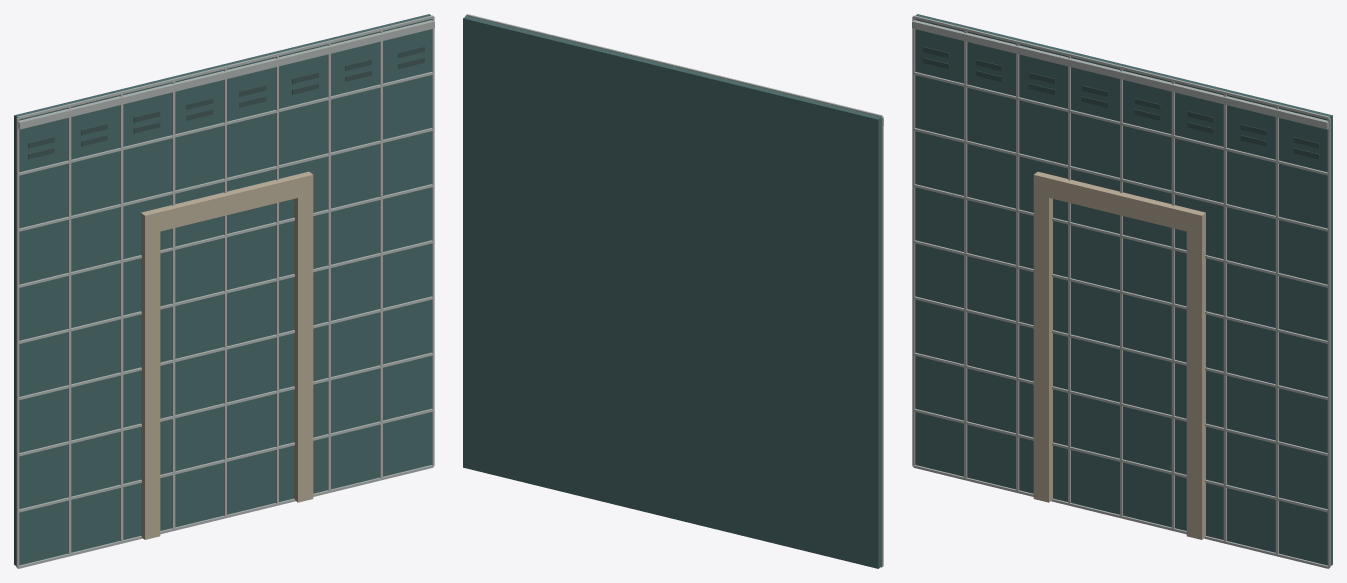
File: lillis-south-detail-2026-11-04.glb
The picture shows the model from 3 angles, left to right: view 1: azimuth 30°, elevation 25°; view 2: azimuth 150°, elevation 25°; view 3: azimuth 330°, elevation 25°; orthographic projection.
Visible parts, largest first — view 1: exterior-detail-building; view 2: exterior-detail-building; view 3: exterior-detail-building.
Part boxes in pixels (x1=…): exterior-detail-building: x1=14, y1=14, x2=434, y2=568; exterior-detail-building: x1=463, y1=14, x2=883, y2=568; exterior-detail-building: x1=912, y1=14, x2=1332, y2=568.
Size of the model in its own units: 19.1 by 19.74 by 0.6.
